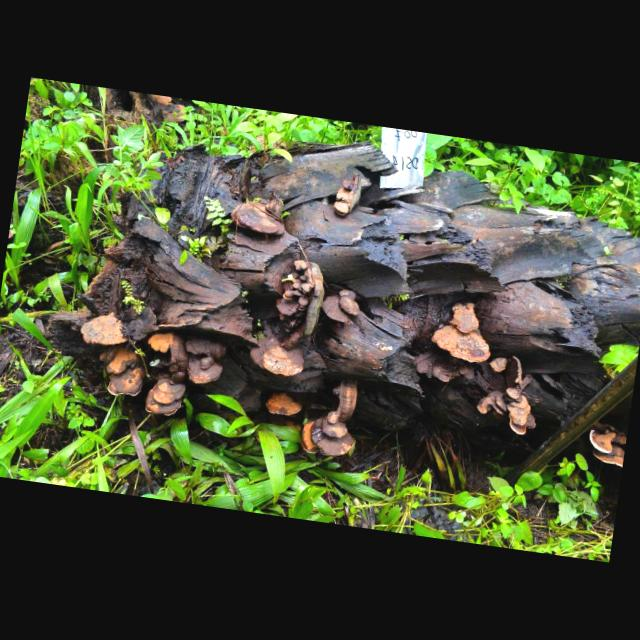ganoderma: (475, 384, 543, 439), (298, 407, 360, 462), (272, 257, 321, 326), (429, 322, 496, 367), (228, 193, 290, 240), (410, 349, 479, 388), (77, 307, 135, 351), (144, 376, 189, 421), (319, 289, 367, 325), (261, 345, 309, 381), (184, 353, 226, 390), (106, 364, 147, 401), (97, 344, 140, 379), (246, 333, 282, 373), (448, 301, 484, 338), (264, 392, 306, 421), (184, 337, 231, 362), (333, 178, 358, 219), (592, 442, 627, 470), (588, 429, 619, 456), (147, 331, 178, 356), (489, 357, 509, 376)
